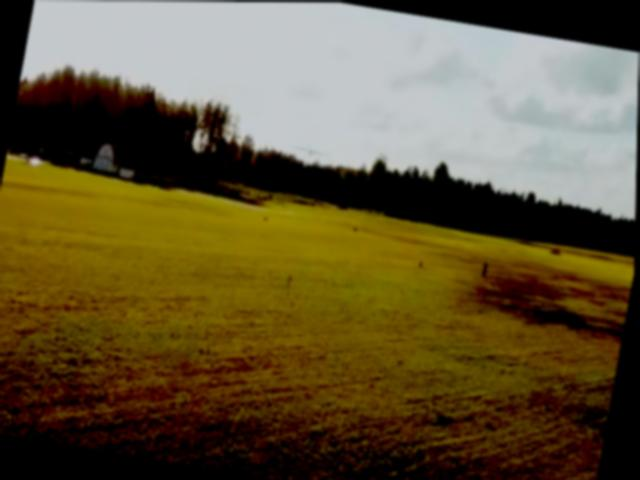iha: (290, 144, 331, 158)
